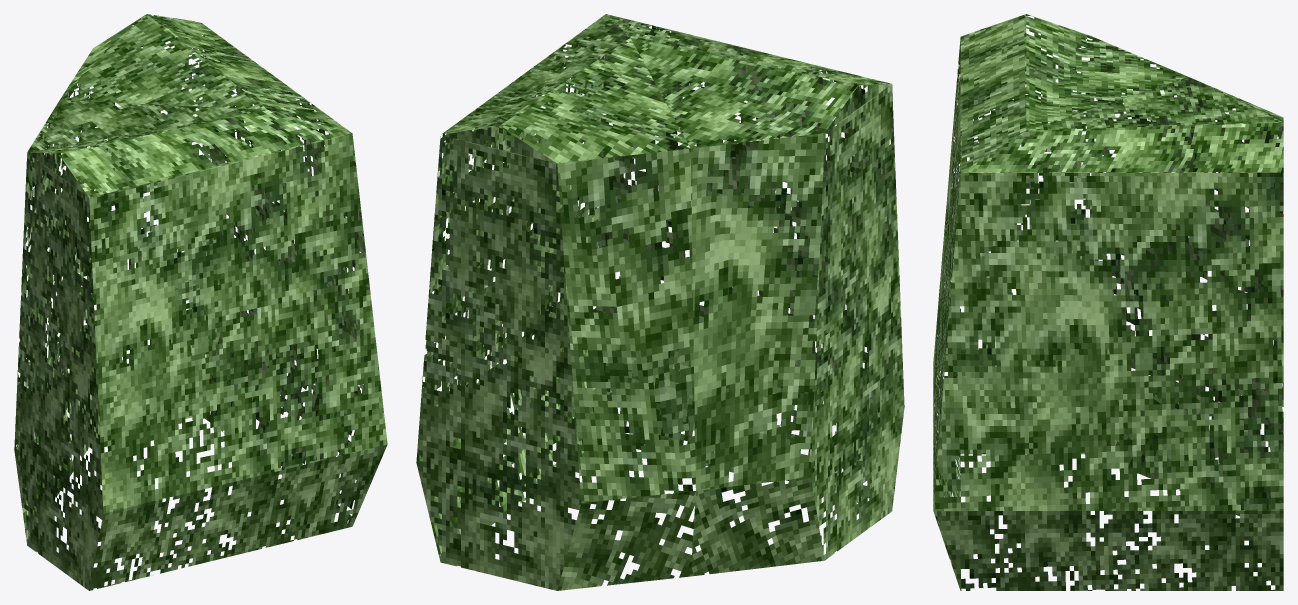
Rendered from bush_long_square_corner_filled_summer.glb.
The picture shows the model from 3 angles, left to right: view 1: azimuth 30°, elevation 25°; view 2: azimuth 150°, elevation 25°; view 3: azimuth 270°, elevation 25°; orthographic projection. The views are drawn at different scales.
Visible parts, largest first — view 1: bush_long_square_corner_filled_summer; view 2: bush_long_square_corner_filled_summer; view 3: bush_long_square_corner_filled_summer.
Part boxes in pixels (box(x1,y1,x2,y2)): bush_long_square_corner_filled_summer: box(14, 14, 387, 590); bush_long_square_corner_filled_summer: box(416, 14, 904, 590); bush_long_square_corner_filled_summer: box(933, 14, 1283, 590).
Size of the model in its own units: 1.35 by 1.88 by 1.35.
Materials: 1 (1 with a texture image).
